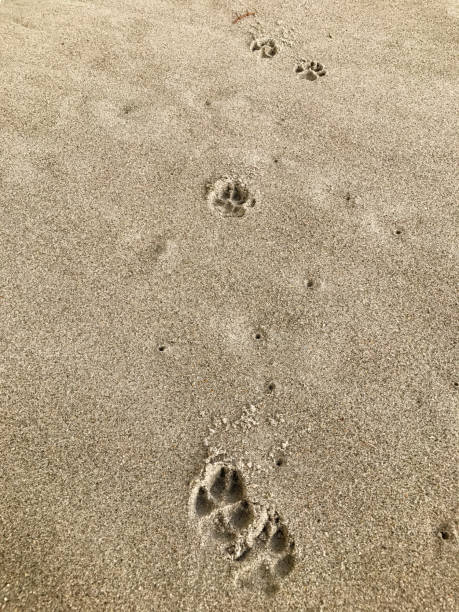animal_foot_print: (190, 461, 295, 593), (190, 462, 253, 555), (239, 508, 295, 593), (208, 177, 255, 216), (295, 60, 325, 80), (250, 38, 279, 58)
